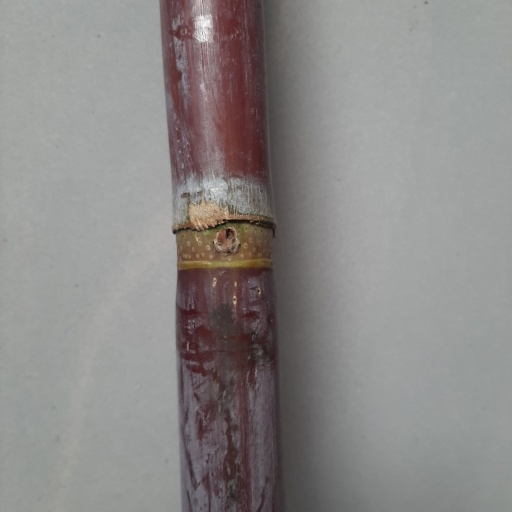Damage_Bud: (214, 225, 241, 255)
